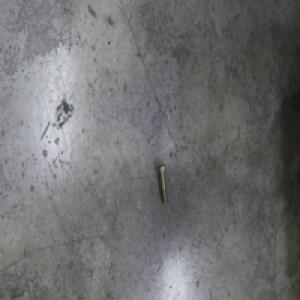Bolt: (156, 164, 169, 206)
